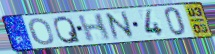0: (163, 6, 189, 37)
4: (144, 8, 166, 39)
H: (76, 12, 112, 43)
N: (103, 10, 138, 42)
O: (27, 17, 56, 46)
Q: (53, 15, 83, 45)
